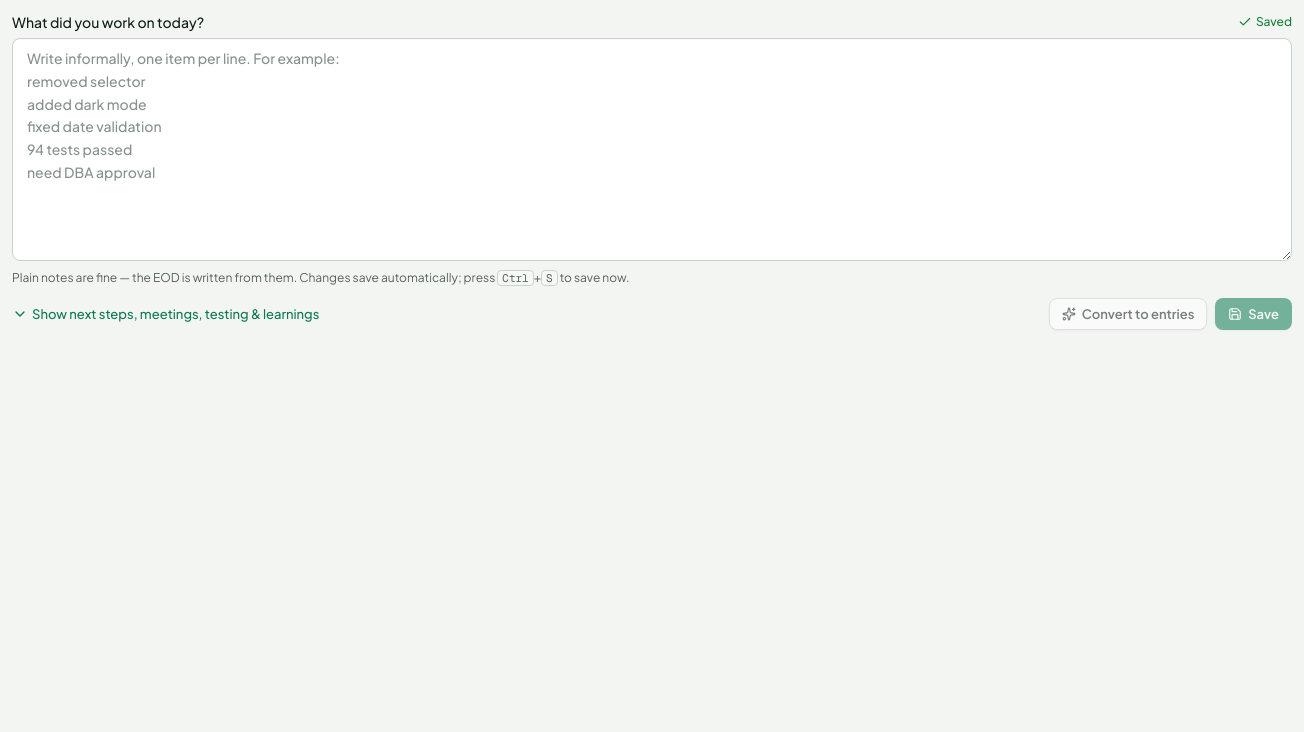
Test: Work log notes › shows an error state when saving fails
The image size is (1304, 732).
Type "x" into the text box labelled "What did you work on today?" at point(652, 149), box 12,38 -> 1292,261
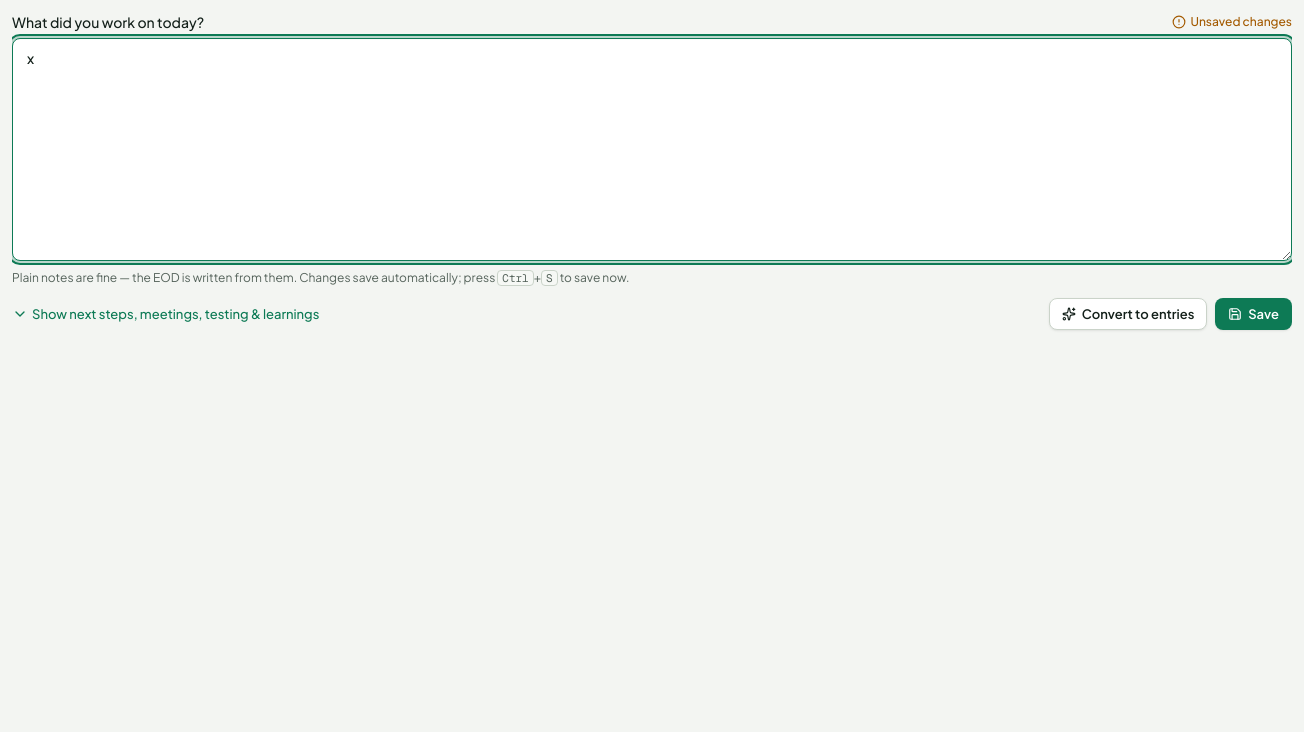
Click the button "Save" at point(1254, 314), box 1215,298 -> 1292,330
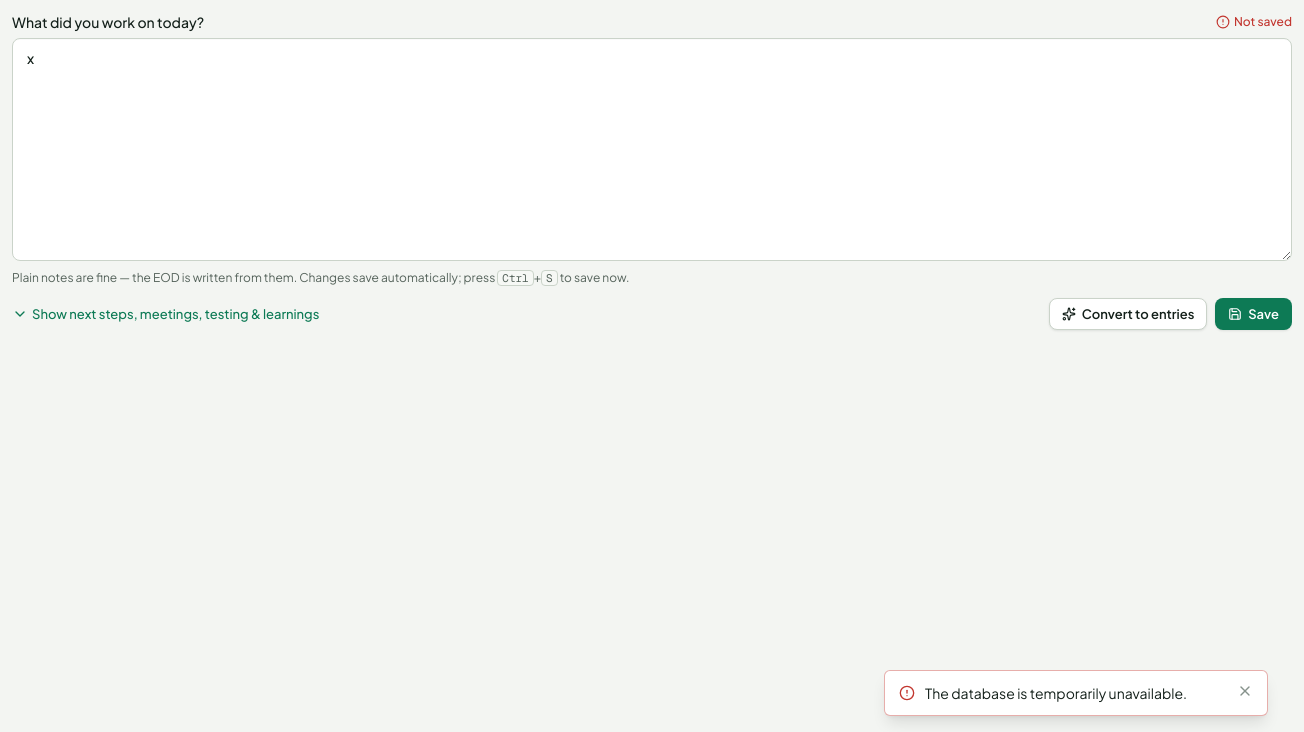
Expected: the text "Not saved" is shown, 1216,14 -> 1292,30
Expected: the text "The database is temporarily unavailable." is shown, 925,683 -> 1227,703
